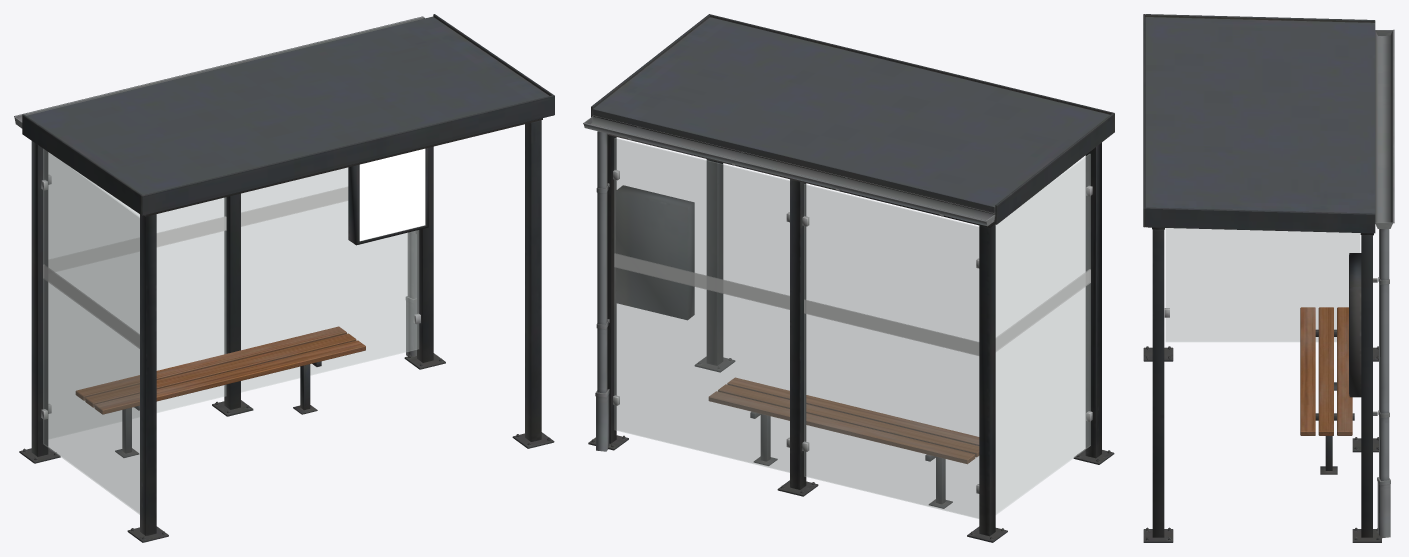
Rendered from bus-stop-shelter.glb.
3 renders of one model, left to right at view 1: azimuth 30°, elevation 25°; view 2: azimuth 150°, elevation 25°; view 3: azimuth 270°, elevation 25°, orthographic. The views are drawn at different scales.
Visible parts, largest first — view 1: bus-stop-shelter_body, bus-stop-shelter_back_0_glass, bus-stop-shelter_bench, bus-stop-shelter_info_light; view 2: bus-stop-shelter_back_0_glass, bus-stop-shelter_body, bus-stop-shelter_bench; view 3: bus-stop-shelter_body, bus-stop-shelter_back_0_glass, bus-stop-shelter_bench.
Boxes of the visible parts, left/top/right/bottom form: bus-stop-shelter_body: left=14, top=14, right=554, bottom=542; bus-stop-shelter_back_0_glass: left=43, top=149, right=418, bottom=514; bus-stop-shelter_bench: left=75, top=326, right=365, bottom=457; bus-stop-shelter_info_light: left=359, top=148, right=425, bottom=240; bus-stop-shelter_back_0_glass: left=614, top=138, right=1090, bottom=518; bus-stop-shelter_body: left=583, top=14, right=1114, bottom=542; bus-stop-shelter_bench: left=708, top=377, right=979, bottom=508; bus-stop-shelter_body: left=1143, top=14, right=1394, bottom=542; bus-stop-shelter_back_0_glass: left=1166, top=228, right=1359, bottom=341; bus-stop-shelter_bench: left=1300, top=307, right=1354, bottom=474.
Bounding box in the file's own units: 3.13 × 2.52 × 1.71.
5 materials, 2 textured.
